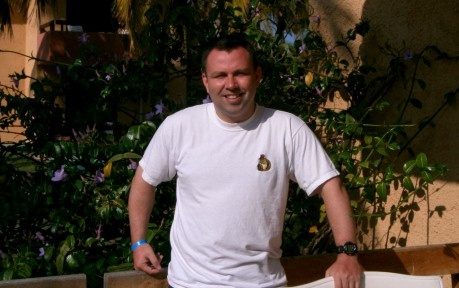head: (200, 34, 264, 116)
person: (122, 27, 367, 288)
